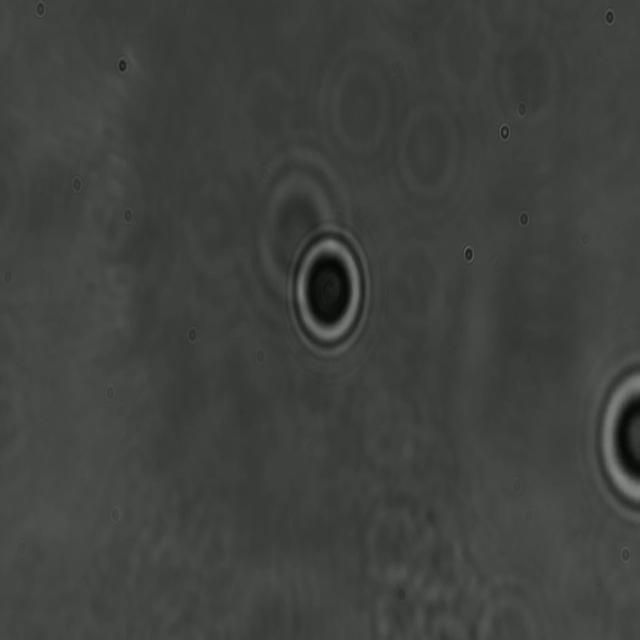DCELL: (288, 221, 370, 360)
